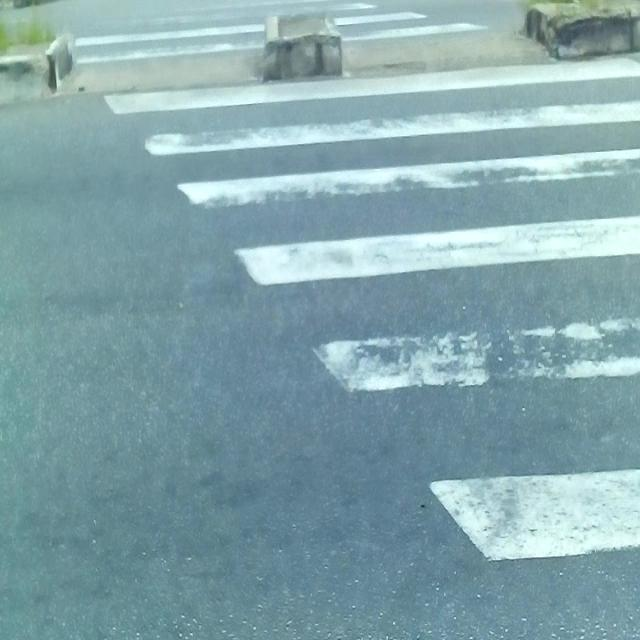crosswalk: (67, 0, 640, 640)
